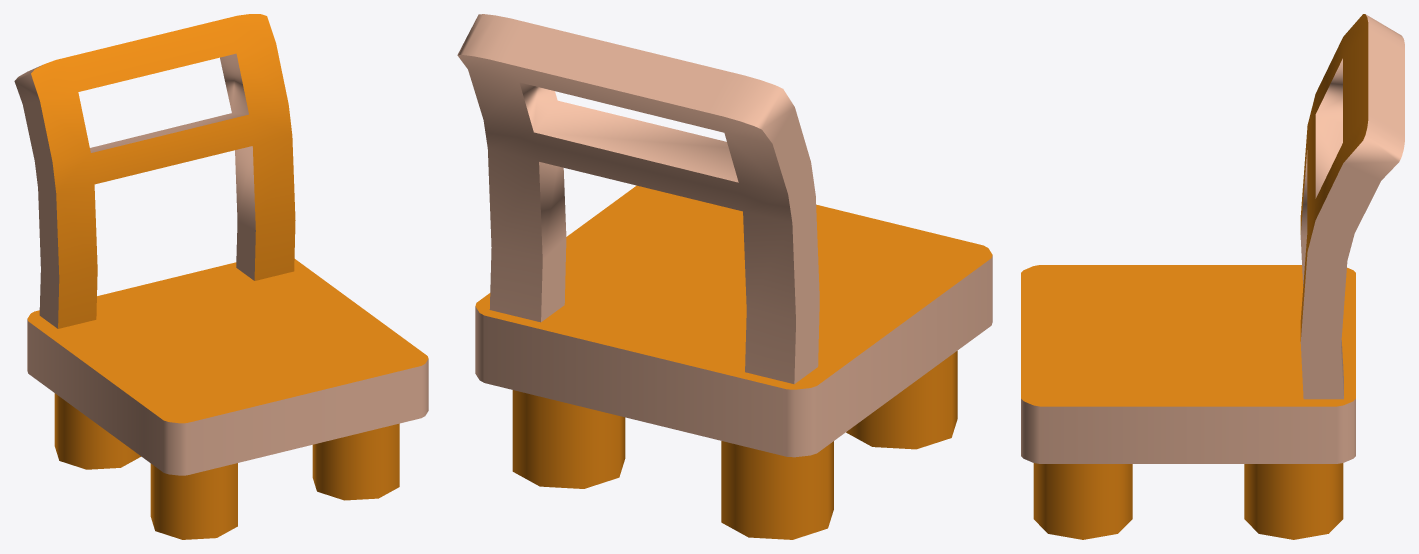
The model's file is Kursi 2.FBX.
3 views of the same model, side by side, from view 1: azimuth 30°, elevation 25°; view 2: azimuth 150°, elevation 25°; view 3: azimuth 270°, elevation 25° (orthographic). The views are drawn at different scales.
Visible parts, largest first — view 1: Box003; view 2: Box003; view 3: Box003.
Part boxes in pixels (x1,y1,x2,y2): Box003: [14, 14, 428, 539]; Box003: [457, 14, 992, 539]; Box003: [1021, 14, 1404, 539].
Bounding box in the file's own units: 53.22 × 70.99 × 60.99.
